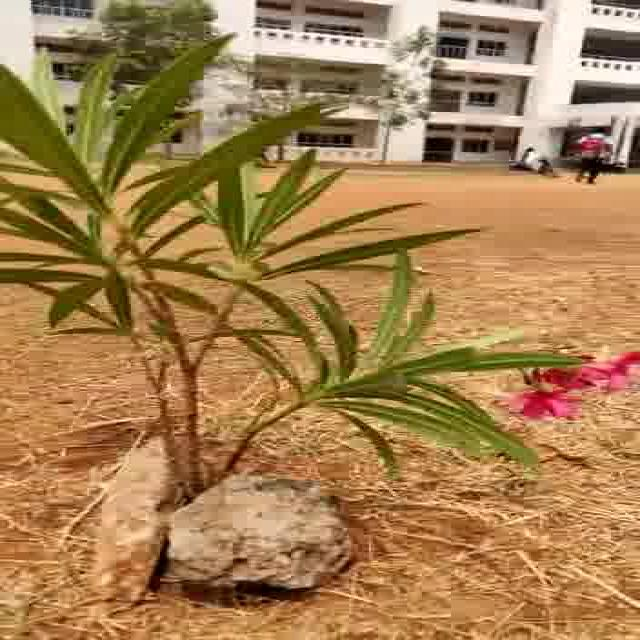Oleander: (9, 60, 603, 470)
